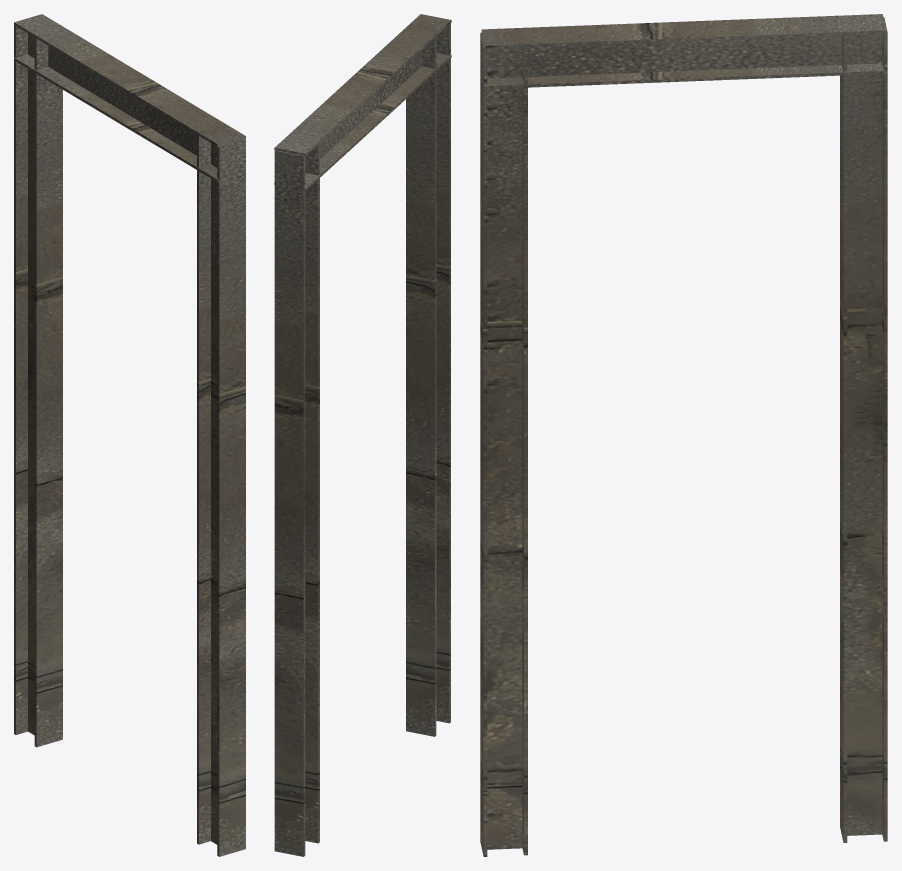
The model's file is CouloirTouffu_Block_01.fbx.
3 views of the same model, side by side, from view 1: azimuth 30°, elevation 25°; view 2: azimuth 150°, elevation 25°; view 3: azimuth 270°, elevation 25° (orthographic). The views are drawn at different scales.
Visible parts, largest first — view 1: CouloirTouffu_Block_01; view 2: CouloirTouffu_Block_01; view 3: CouloirTouffu_Block_01.
Boxes of the visible parts, <box> form: CouloirTouffu_Block_01: <box>14,14,245,856</box>; CouloirTouffu_Block_01: <box>274,14,451,856</box>; CouloirTouffu_Block_01: <box>480,14,887,856</box>.
Size of the model in its own units: 103 by 1226 by 558.
